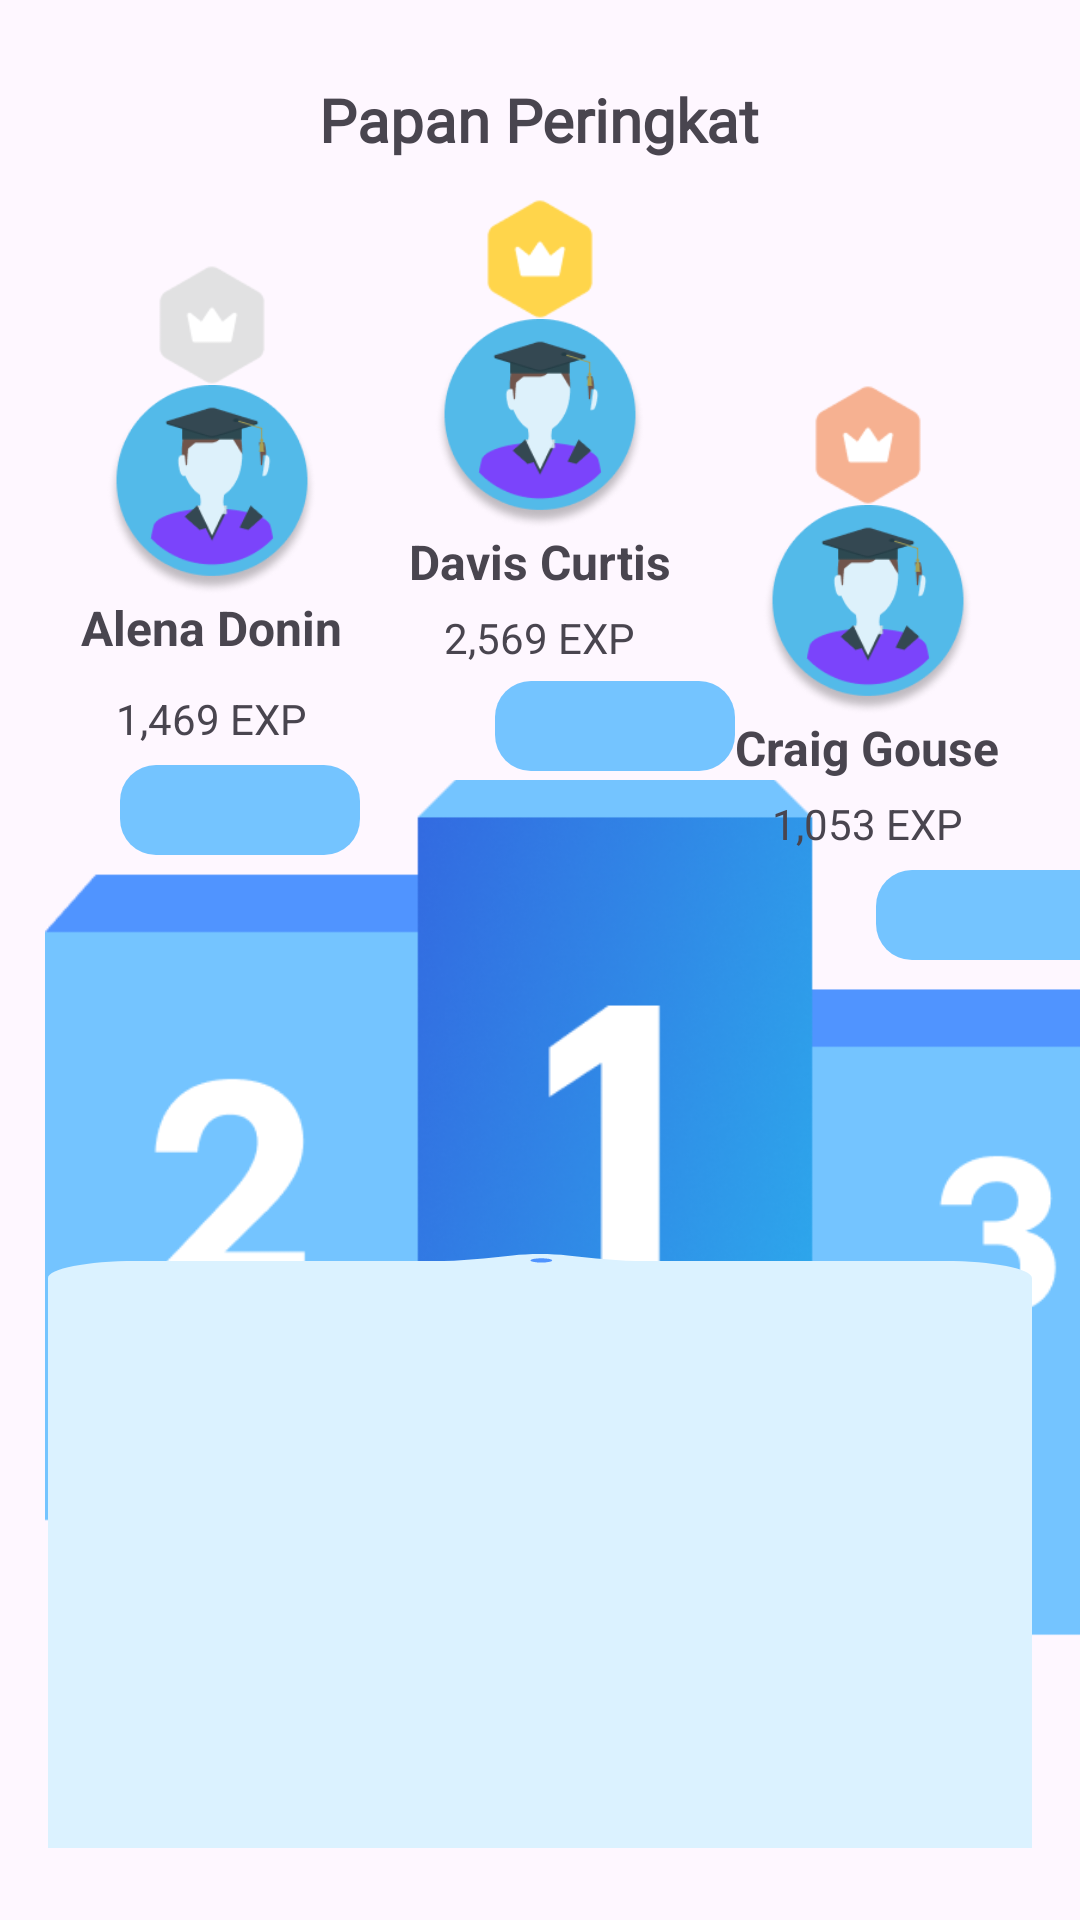

Named icons in this screenshot (1080px x 1920px) and their centers, (x=x, y=y):
bronze crown: (x=868, y=445)
gold crown: (x=540, y=259)
profile: (x=540, y=420), (x=212, y=486), (x=868, y=606)
silver crown: (x=212, y=325)
